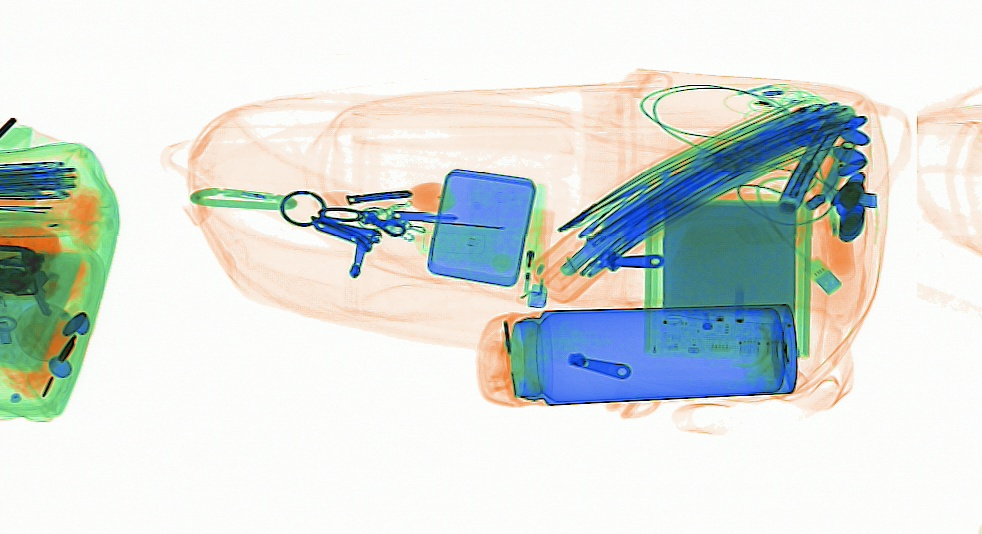lighter: (516, 203, 557, 309)
